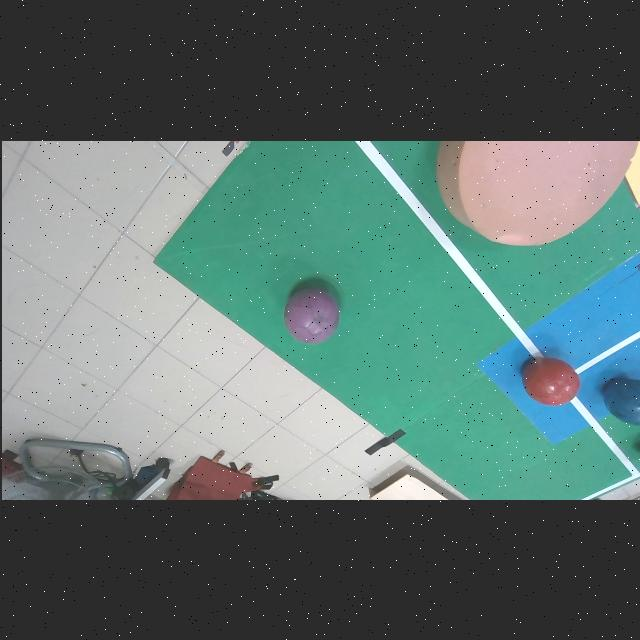B: (602, 379, 640, 426)
P: (282, 287, 337, 344)
R: (521, 358, 579, 404)
